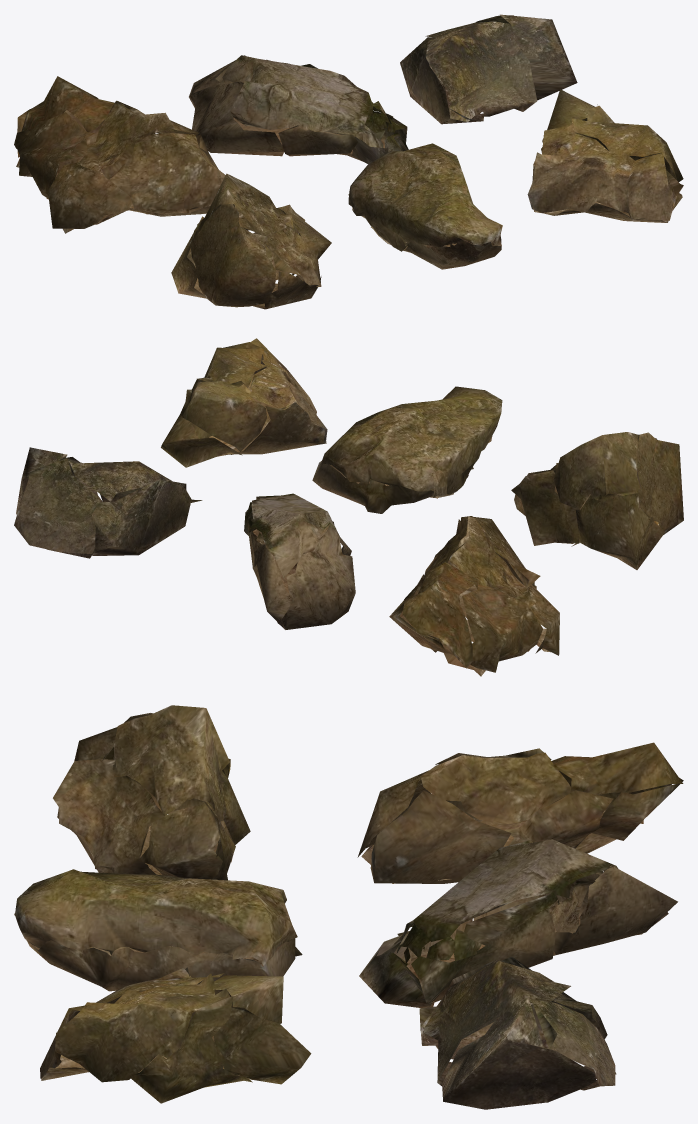
Rendered from moss-rocks-far.glb.
3 renders of one model, top to bottom at view 1: azimuth 30°, elevation 25°; view 2: azimuth 150°, elevation 25°; view 3: azimuth 270°, elevation 25°, orthographic. The views are drawn at different scales.
Parts seen in each view (by area): view 1: rock_moss_set_01_rock01, rock_moss_set_01_rock02, rock_moss_set_01_rock06, rock_moss_set_01_rock04, rock_moss_set_01_rock03, rock_moss_set_01_rock05; view 2: rock_moss_set_01_rock04, rock_moss_set_01_rock01, rock_moss_set_01_rock05, rock_moss_set_01_rock03, rock_moss_set_01_rock06, rock_moss_set_01_rock02; view 3: rock_moss_set_01_rock01, rock_moss_set_01_rock02, rock_moss_set_01_rock05, rock_moss_set_01_rock04, rock_moss_set_01_rock06, rock_moss_set_01_rock03.
Boxes of the visible parts, x1,y1,x2,y2 form: rock_moss_set_01_rock01: [14, 76, 225, 233]; rock_moss_set_01_rock02: [189, 55, 408, 164]; rock_moss_set_01_rock06: [527, 89, 683, 222]; rock_moss_set_01_rock04: [171, 173, 331, 309]; rock_moss_set_01_rock03: [400, 14, 577, 124]; rock_moss_set_01_rock05: [348, 143, 502, 269]; rock_moss_set_01_rock04: [511, 432, 683, 569]; rock_moss_set_01_rock01: [389, 516, 559, 676]; rock_moss_set_01_rock05: [312, 386, 502, 513]; rock_moss_set_01_rock03: [14, 447, 202, 558]; rock_moss_set_01_rock06: [161, 338, 327, 467]; rock_moss_set_01_rock02: [244, 493, 355, 629]; rock_moss_set_01_rock01: [357, 742, 683, 883]; rock_moss_set_01_rock02: [359, 839, 677, 1007]; rock_moss_set_01_rock05: [14, 869, 302, 991]; rock_moss_set_01_rock04: [53, 705, 250, 880]; rock_moss_set_01_rock06: [40, 967, 311, 1103]; rock_moss_set_01_rock03: [419, 956, 616, 1109].
Bounding box in the file's own units: 8.03 × 1.9 × 6.94.
Materials: 1 (1 with a texture image).
